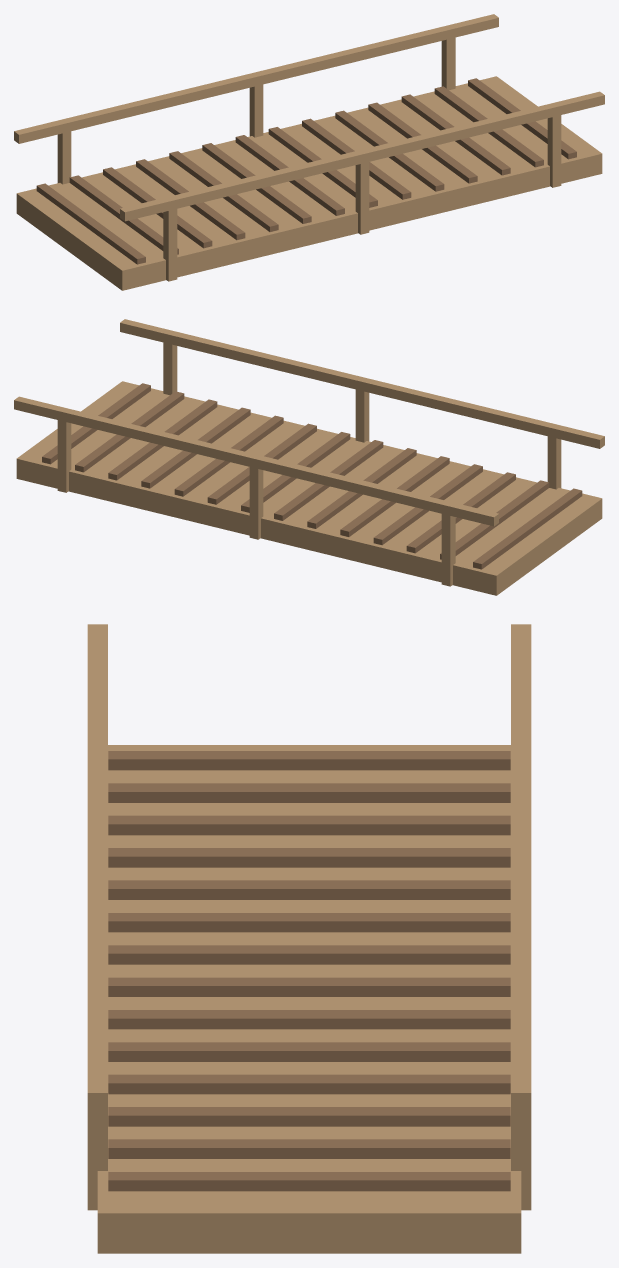
File: PROP-bridge-01.glb
The picture shows the model from 3 angles, top to bottom: view 1: azimuth 30°, elevation 25°; view 2: azimuth 150°, elevation 25°; view 3: azimuth 270°, elevation 25°; orthographic projection. The views are drawn at different scales.
Parts seen in each view (by area): view 1: PROP-bridge-01; view 2: PROP-bridge-01; view 3: PROP-bridge-01.
Part boxes in pixels (bbox=[...]): PROP-bridge-01: bbox=[14, 14, 604, 290]; PROP-bridge-01: bbox=[14, 319, 604, 595]; PROP-bridge-01: bbox=[87, 624, 531, 1253].
Size of the model in its own units: 5.5 by 0.88 by 2.2.
